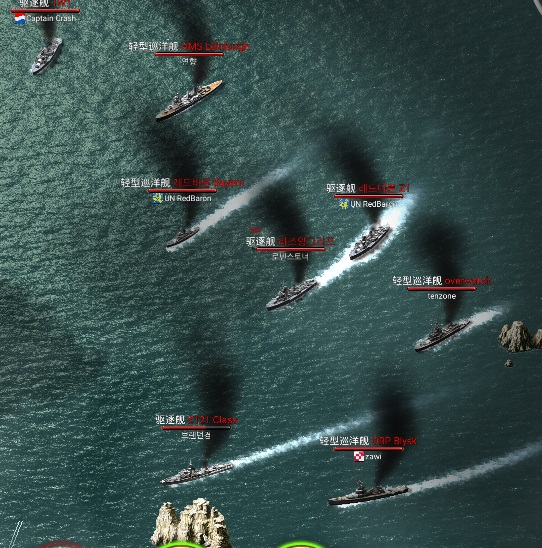ship: (152, 75, 225, 125), (328, 483, 412, 510), (159, 459, 237, 486), (414, 316, 469, 351), (26, 36, 65, 79), (266, 277, 318, 307), (353, 223, 391, 262), (166, 223, 202, 253)
